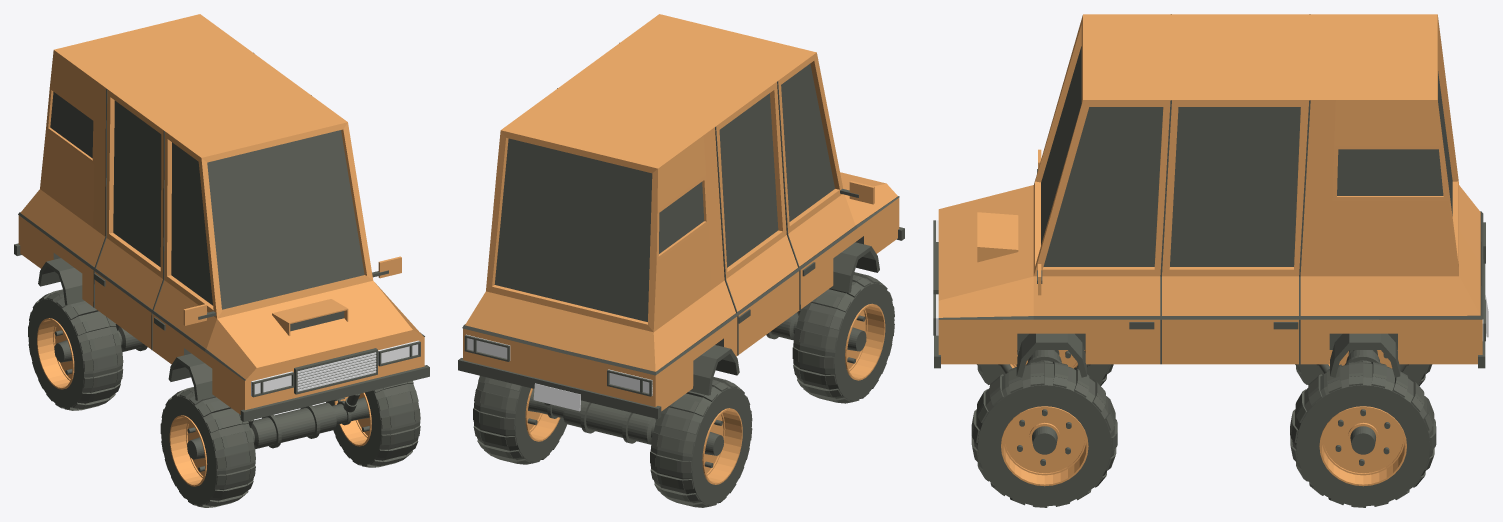
3 views of the same model, side by side, from view 1: azimuth 30°, elevation 25°; view 2: azimuth 150°, elevation 25°; view 3: azimuth 270°, elevation 25° (orthographic). The views are drawn at different scales.
Parts seen in each view (by area): view 1: Cube.013, Cube.025, Cube.026; view 2: Cube.013, Cube.026, Cube.025; view 3: Cube.013, Cube.026, Cube.025.
Boxes of the visible parts, bbox=[...] form: Cube.013: bbox=[14, 14, 429, 421]; Cube.025: bbox=[160, 381, 420, 507]; Cube.026: bbox=[28, 289, 147, 410]; Cube.013: bbox=[458, 14, 904, 418]; Cube.026: bbox=[473, 376, 752, 507]; Cube.025: bbox=[766, 272, 894, 403]; Cube.013: bbox=[933, 14, 1488, 377]; Cube.026: bbox=[1290, 350, 1436, 507]; Cube.025: bbox=[971, 350, 1117, 507].
Bounding box in the file's own units: 2.3 × 3.33 × 4.24.
Materials: 1 (1 with a texture image).
